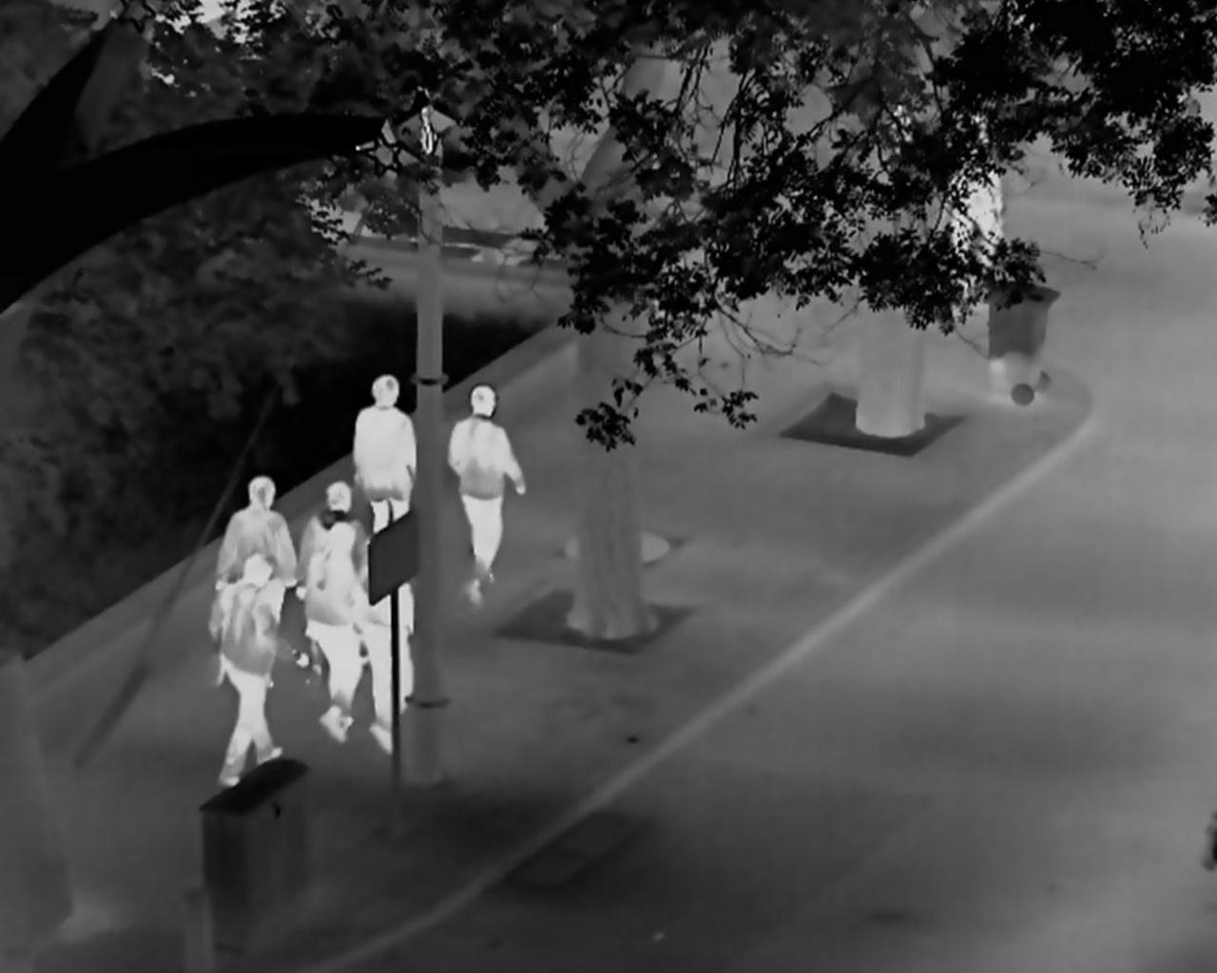person: (208, 552, 290, 789), (446, 383, 529, 608), (217, 475, 298, 690), (297, 481, 371, 682), (943, 112, 1005, 315), (360, 535, 417, 755), (305, 524, 361, 744), (353, 373, 416, 533)
